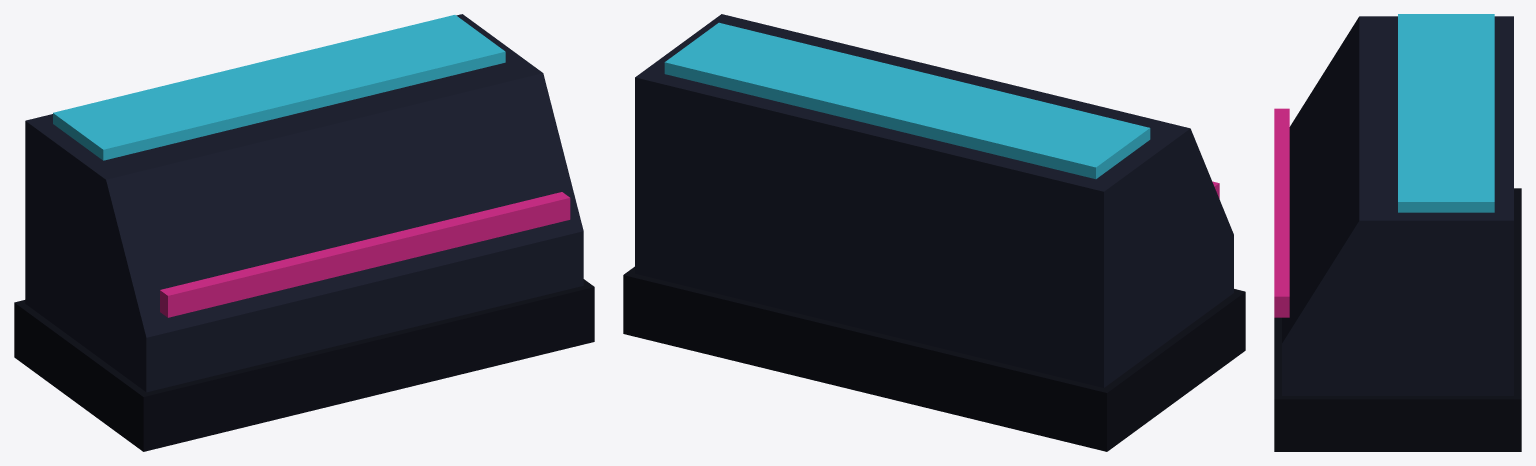
The model's file is barrierA.glb.
3 views of the same model, side by side, from view 1: azimuth 30°, elevation 25°; view 2: azimuth 150°, elevation 25°; view 3: azimuth 270°, elevation 25° (orthographic). The views are drawn at different scales.
Visible parts, largest first — view 1: nightCity-barrierA; view 2: nightCity-barrierA; view 3: nightCity-barrierA.
Boxes of the visible parts, box(x1,y1,x2,y2) form: nightCity-barrierA: box(14, 14, 594, 451); nightCity-barrierA: box(623, 14, 1245, 451); nightCity-barrierA: box(1274, 14, 1521, 451).
Size of the model in its own units: 0.258 by 0.136 by 0.128.
